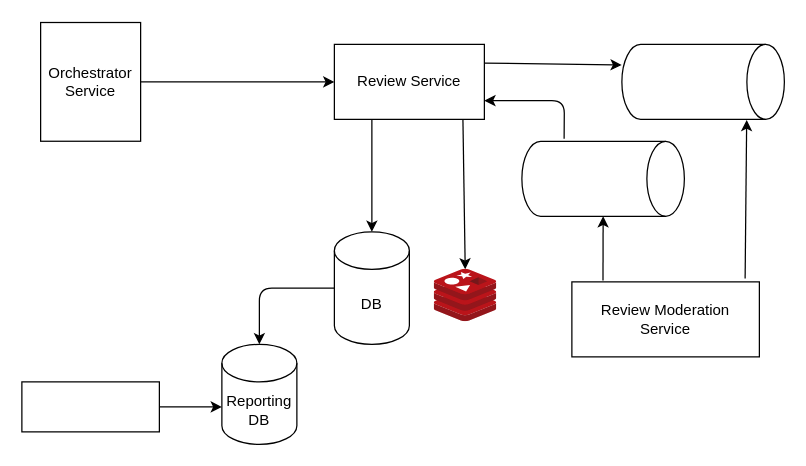
The diagram is 806 pixels wide and 466 high, and some of its shapes have lost their labels. Here are the shapes that lost their labels. From the top down, the centre of each, then its label:
(x=702, y=81): Review Moderation Queue
(x=602, y=178): Review Status Update Queue
(x=90, y=406): Analytics Service
